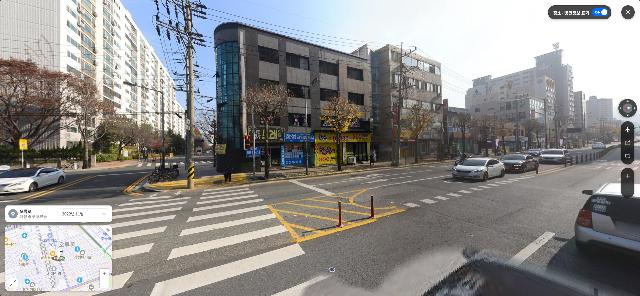ginkgo: (321, 96, 362, 171)
other: (0, 51, 115, 168), (61, 75, 118, 168), (244, 81, 292, 180), (97, 106, 160, 162), (403, 103, 436, 163), (470, 116, 495, 158), (491, 117, 516, 156), (450, 113, 472, 154), (522, 119, 546, 150)
